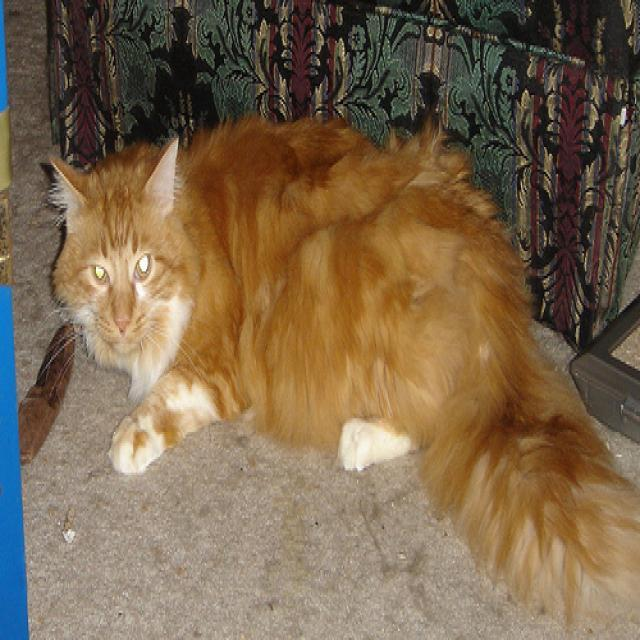Maine_Coon: (50, 128, 191, 371)
